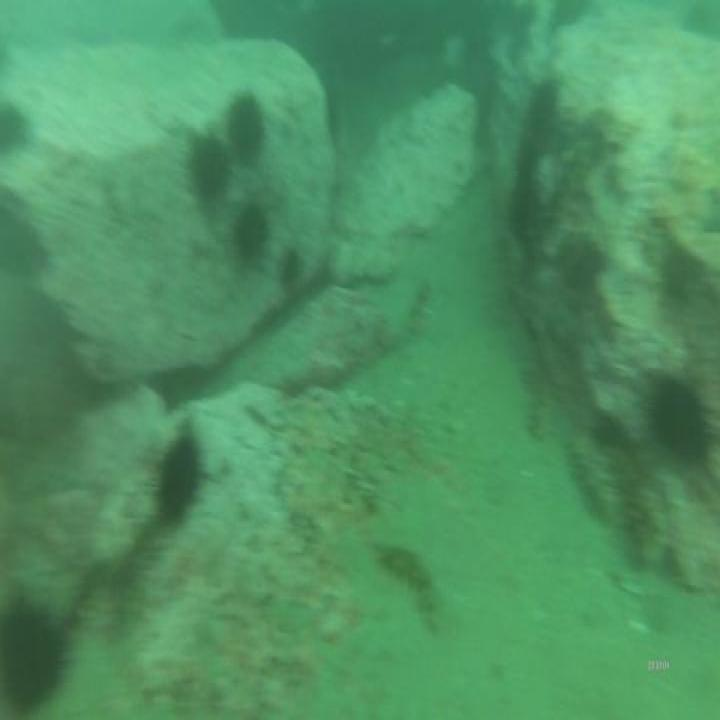echinus: (0, 588, 83, 713), (638, 359, 720, 473), (511, 70, 559, 246), (156, 425, 211, 535), (180, 122, 232, 218), (225, 85, 271, 171), (230, 188, 271, 278), (275, 240, 309, 290)
holothurian: (600, 427, 676, 581), (374, 519, 443, 637), (566, 428, 613, 528)
